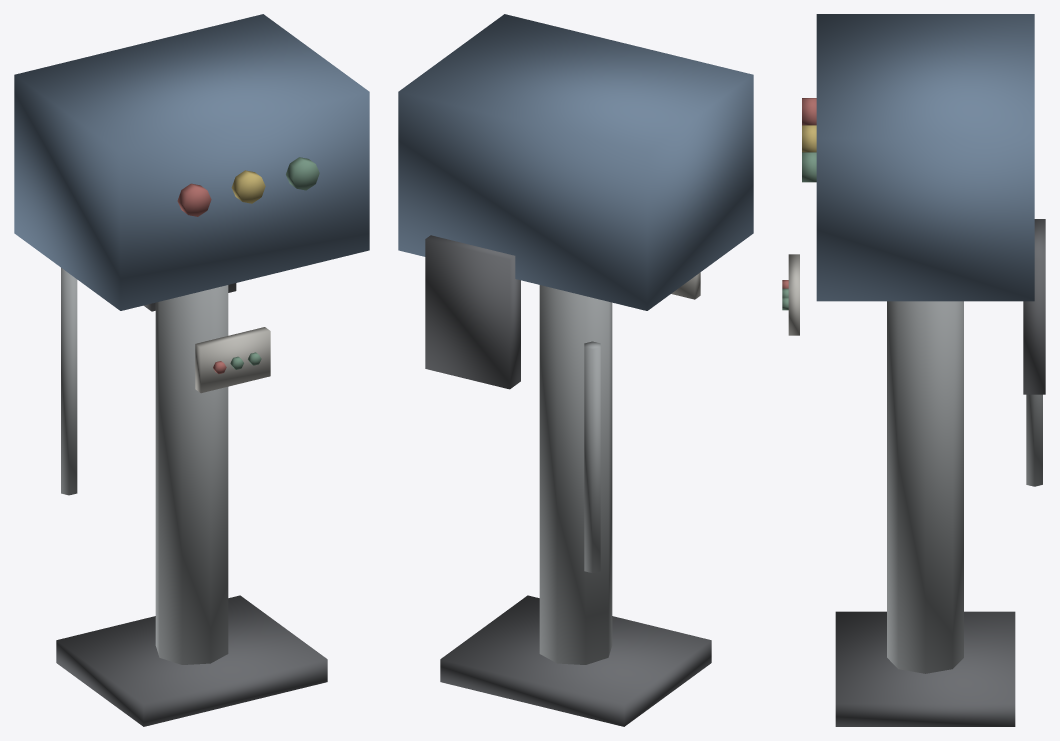
Rendered from pedestal_machine_control__service.glb.
3 views of the same model, side by side, from view 1: azimuth 30°, elevation 25°; view 2: azimuth 150°, elevation 25°; view 3: azimuth 270°, elevation 25° (orthographic). The views are drawn at different scales.
Parts seen in each view (by area): view 1: world; view 2: world; view 3: world.
Part boxes in pixels (x1,y1,x2,y2): world: (14,14,369,726); world: (398,14,753,726); world: (782,14,1045,726).
Bounding box in the file's own units: 0.46 × 1.04 × 0.411.
